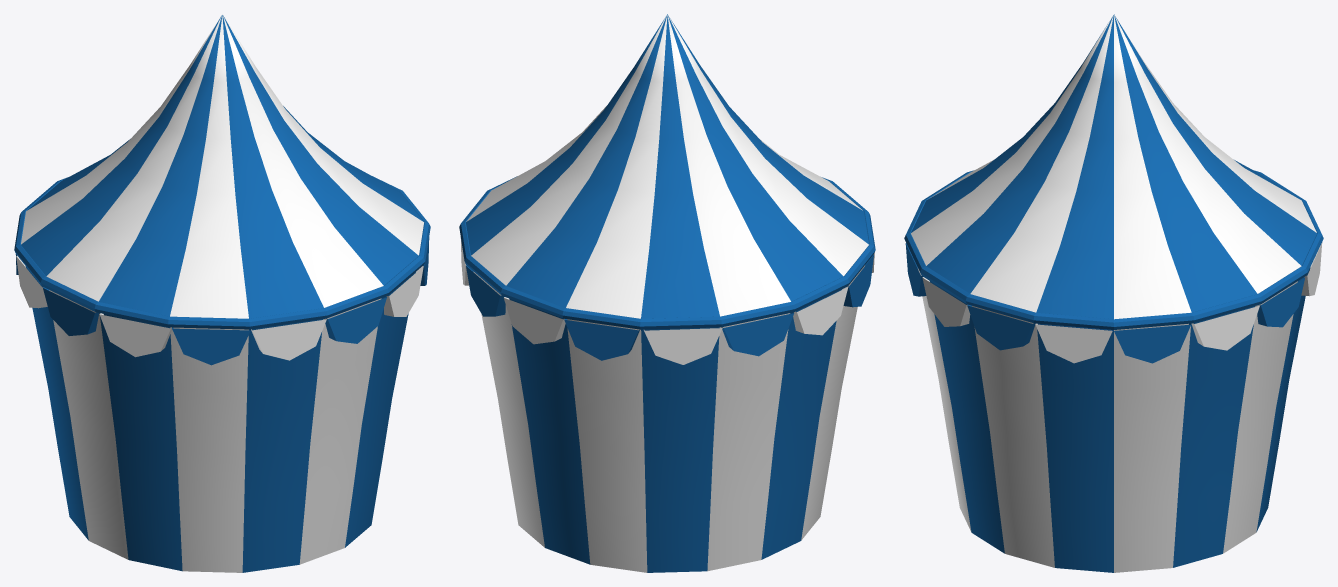
Rendered from tendaAzul.fbx.
3 views of the same model, side by side, from view 1: azimuth 30°, elevation 25°; view 2: azimuth 150°, elevation 25°; view 3: azimuth 270°, elevation 25° (orthographic).
Visible parts, largest first — view 1: tendaVermelha.001; view 2: tendaVermelha.001; view 3: tendaVermelha.001.
Boxes of the visible parts, x1,y1,x2,y2 form: tendaVermelha.001: (14,14,430,572); tendaVermelha.001: (459,14,875,572); tendaVermelha.001: (904,14,1323,572).
Bounding box in the file's own units: 189 × 246 × 189.
